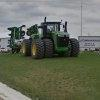Tractor: (13, 19, 87, 65)
